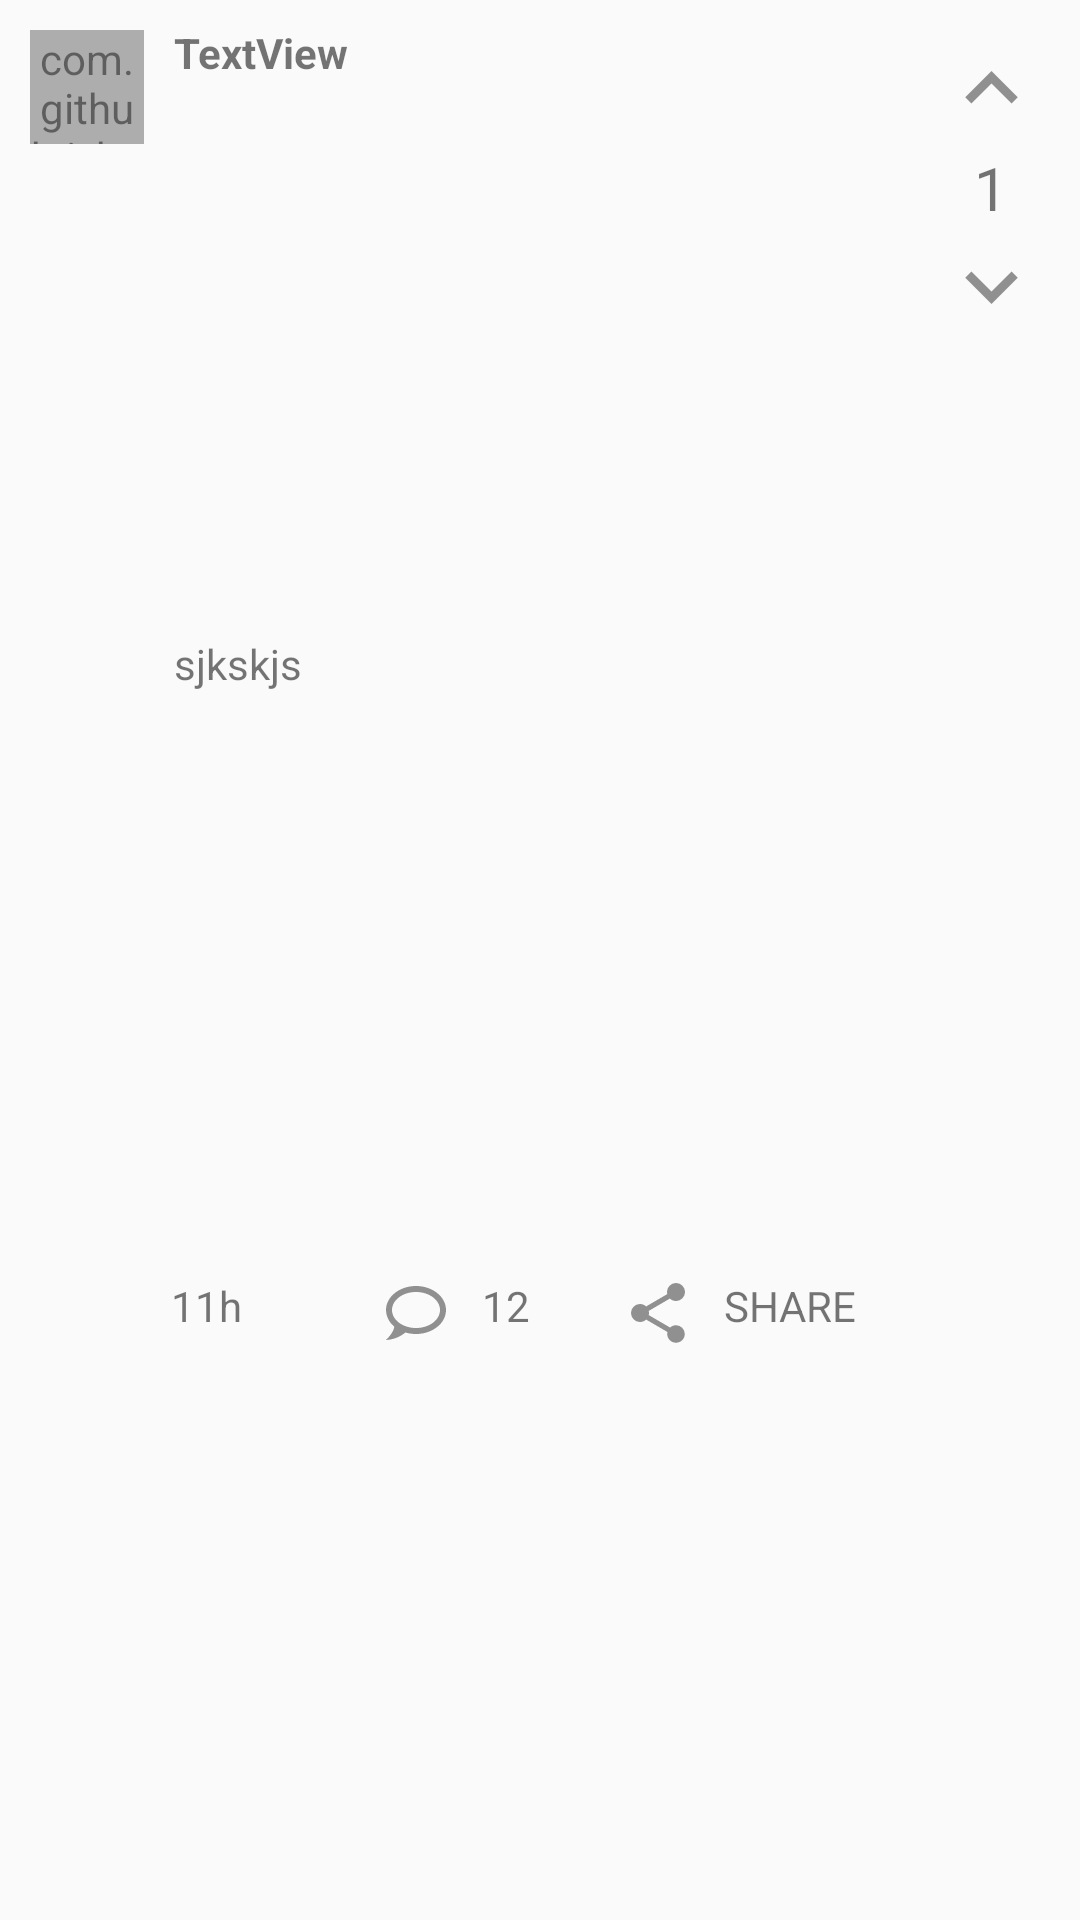

Icon bounding boxes for this 1080px×1920px phone screenshot, format (x1, y1, x2, y2):
arrow down: (965, 271, 1018, 304)
arrow up: (965, 71, 1018, 104)
chat: (386, 1286, 446, 1340)
